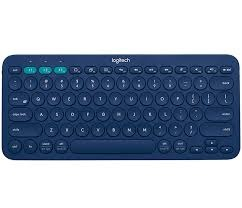keyboard: (3, 40, 240, 164)
